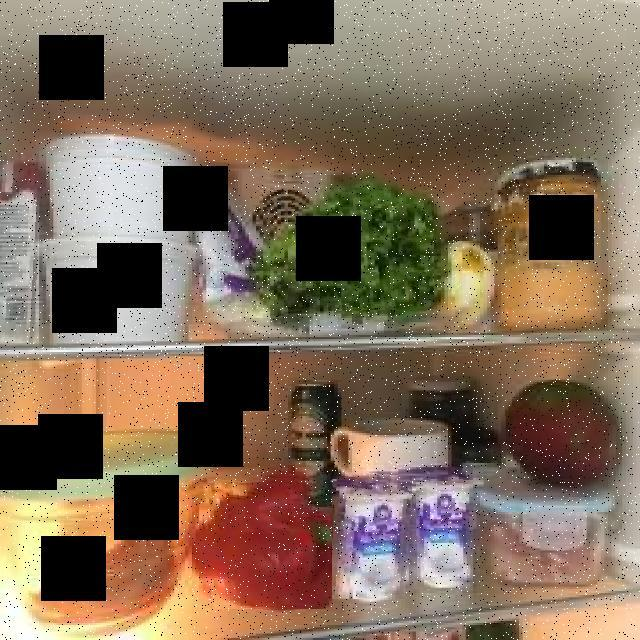bell_pepper: (199, 473, 334, 609)
heavy_cream: (0, 154, 43, 344)
mango: (503, 382, 617, 482)
salad: (320, 190, 434, 311)
yogurt: (332, 470, 414, 600), (412, 468, 473, 588)
